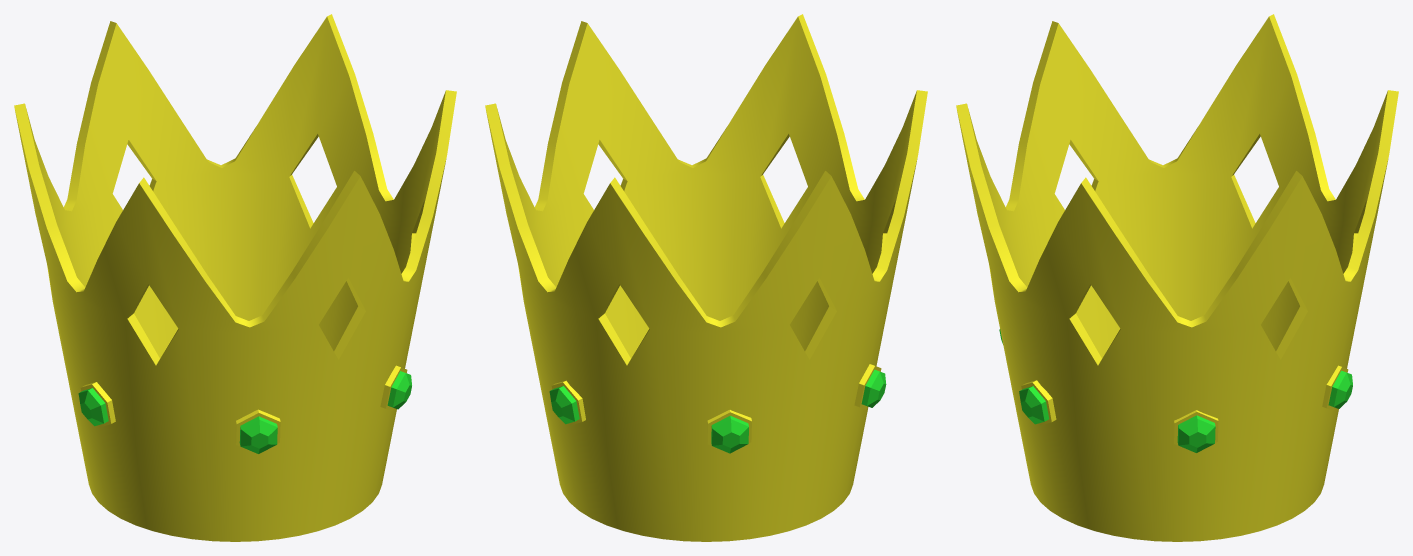
The model's file is Cake_ThemeRoyal_G.FBX.
The picture shows the model from 3 angles, left to right: view 1: azimuth 30°, elevation 25°; view 2: azimuth 150°, elevation 25°; view 3: azimuth 270°, elevation 25°; orthographic projection.
Parts seen in each view (by area): view 1: Cake_ThemeRoyal_G; view 2: Cake_ThemeRoyal_G; view 3: Cake_ThemeRoyal_G.
Part boxes in pixels (bbox=[...]): Cake_ThemeRoyal_G: bbox=[14, 14, 456, 541]; Cake_ThemeRoyal_G: bbox=[485, 14, 927, 541]; Cake_ThemeRoyal_G: bbox=[956, 14, 1398, 541].
Size of the model in its own units: 57733 by 60148 by 63027.
